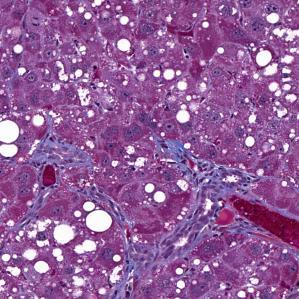fibrosis: (160, 145, 235, 202)
